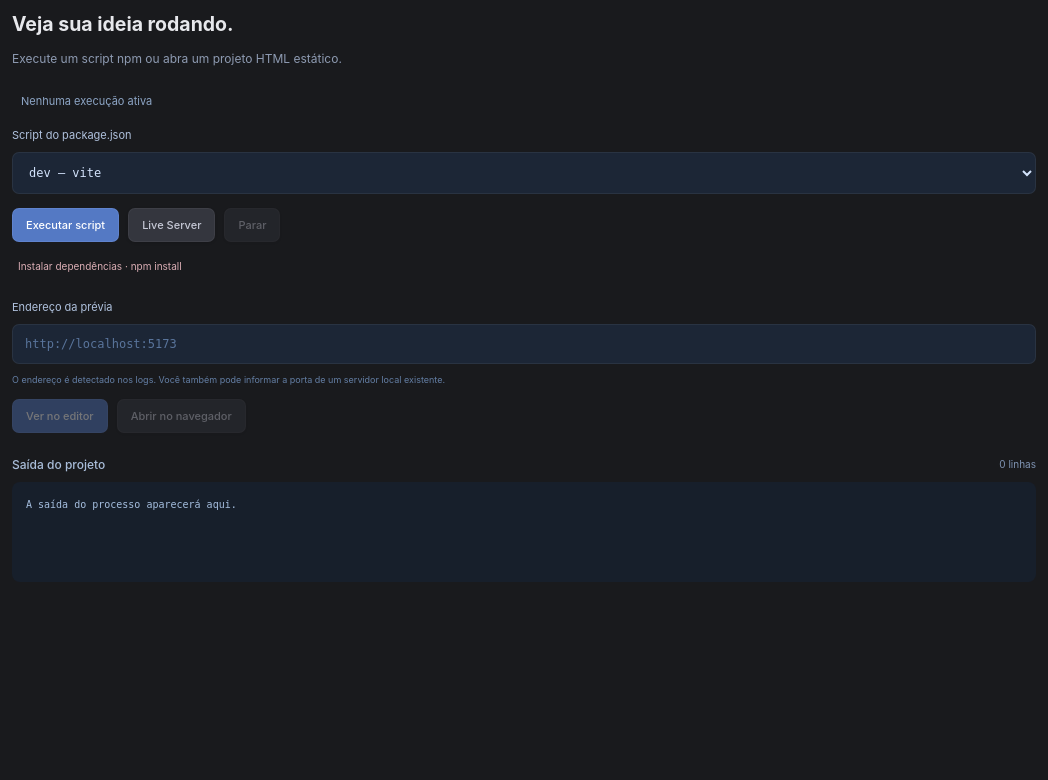
Test: Executar projeto › pré-seleciona o script dev e executa
Expected: the dropdown labelled "Script do package.json" shows "dev — vite", [12,152,1036,194]
Click the button "Executar script".
click(66, 225)  # box [12,208,119,242]
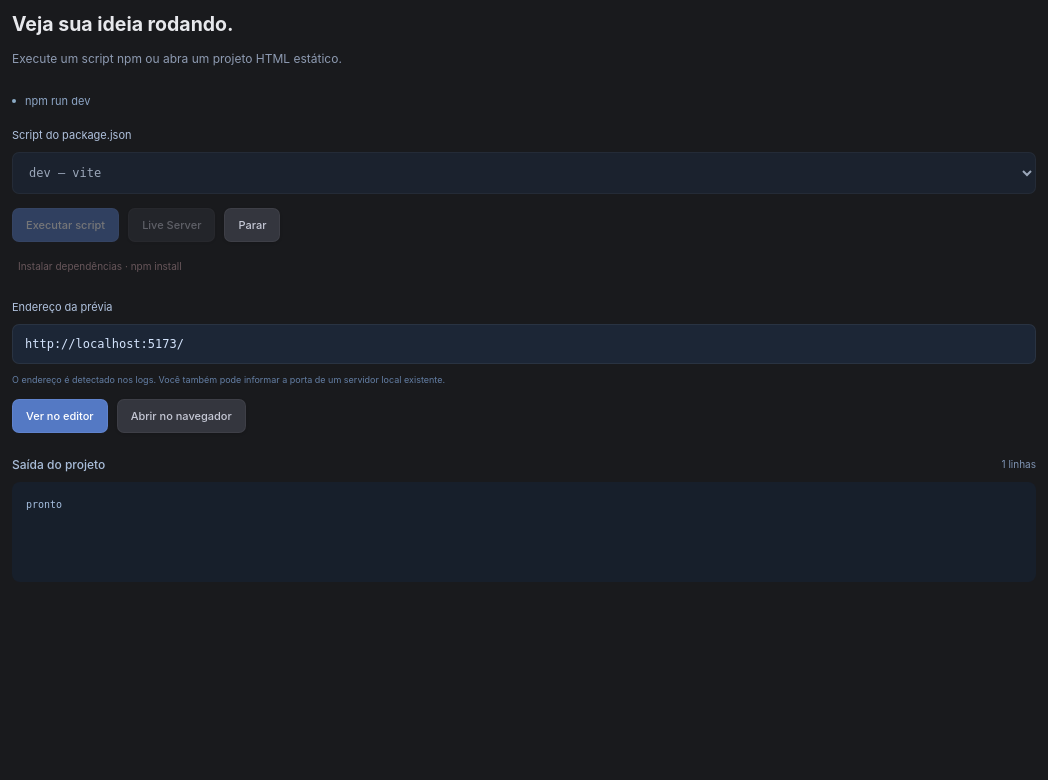
Now the field labelled "Endereço da prévia" holds "http://localhost:5173/", box [12,324,1036,364]
